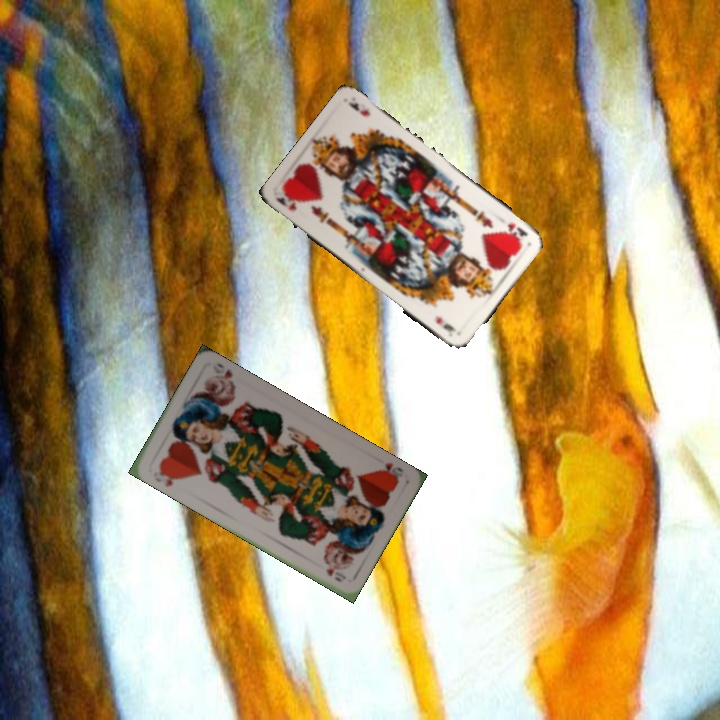HK: (503, 219, 531, 243), (272, 189, 299, 213)
HO: (154, 462, 185, 490), (375, 458, 406, 484)
